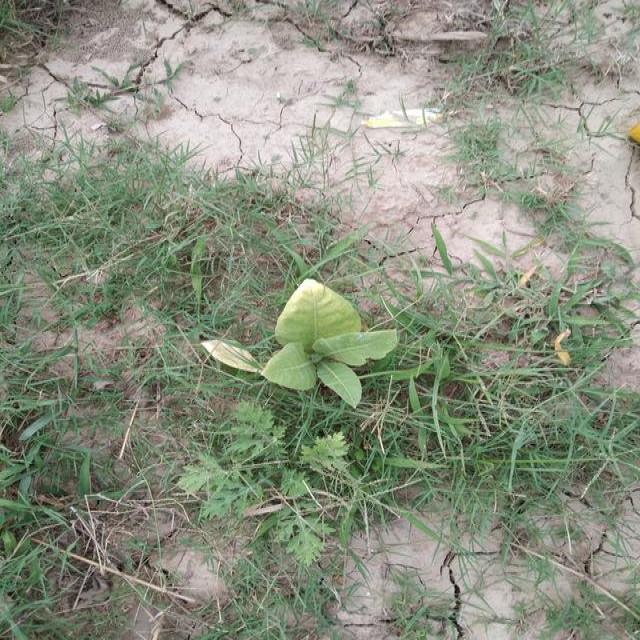crop: (192, 258, 417, 422)
